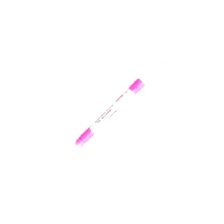correction_fluid: (59, 52, 170, 166)
